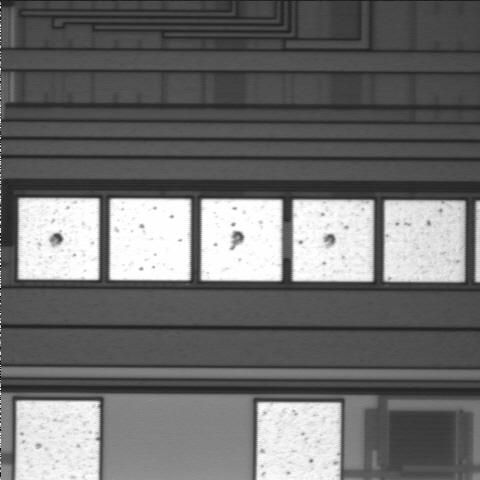pad: (18, 198, 99, 280), (201, 199, 282, 281), (384, 200, 465, 282), (110, 199, 191, 280), (293, 200, 373, 281)
